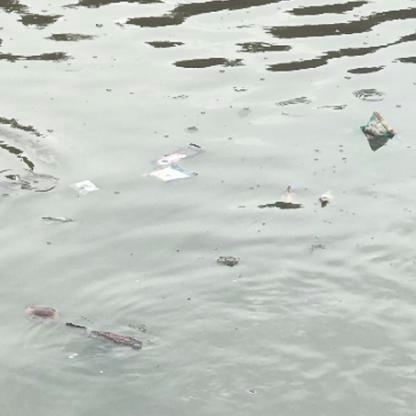Trash: (148, 134, 204, 170), (360, 108, 397, 144), (148, 162, 197, 186)
